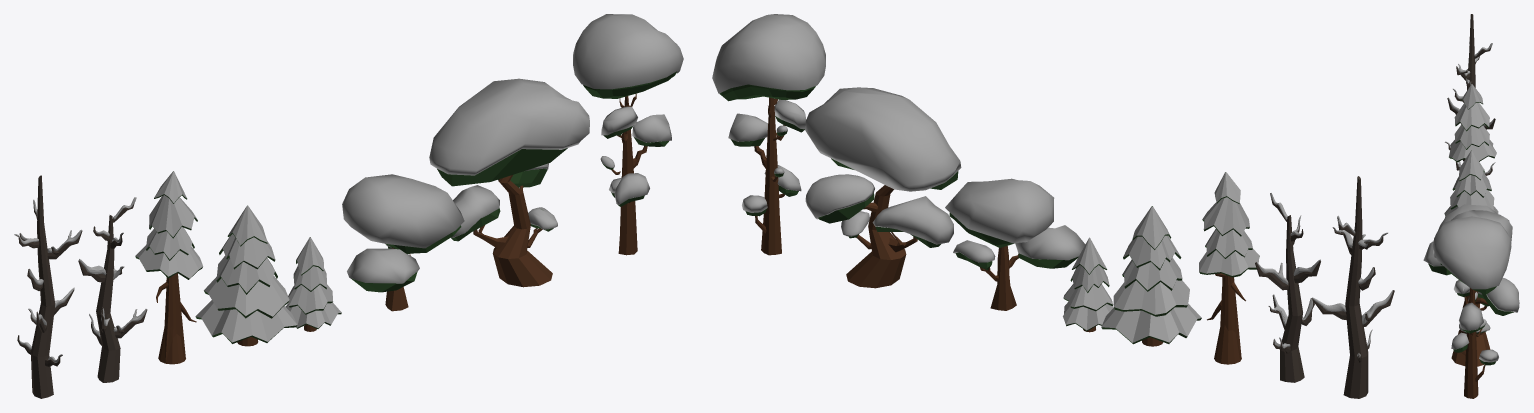
File: Final Trees.glb
3 views of the same model, side by side, from view 1: azimuth 30°, elevation 25°; view 2: azimuth 150°, elevation 25°; view 3: azimuth 270°, elevation 25° (orthographic). The views are drawn at different scales.
Visible parts, largest first — view 1: Laub 3, Laub 1, Laub 2, Tanne 4, Tanne 6, Dead Tree 1, Dead Tree 2, Tanne 5; view 2: Laub 3, Laub 1, Laub 2, Tanne 4, Tanne 6, Dead Tree 1, Dead Tree 2, Tanne 5; view 3: Laub 1, Tanne 6, Laub 3, Tanne 4, Dead Tree 1, Laub 2, Dead Tree 2.
Part boxes in pixels (bbox=[...]): Laub 3: bbox=[429, 78, 589, 287]; Laub 1: bbox=[573, 14, 683, 255]; Laub 2: bbox=[342, 174, 464, 311]; Tanne 4: bbox=[195, 205, 297, 346]; Tanne 6: bbox=[135, 171, 203, 364]; Dead Tree 1: bbox=[14, 175, 82, 398]; Dead Tree 2: bbox=[78, 197, 147, 382]; Tanne 5: bbox=[285, 237, 341, 331]; Laub 3: bbox=[805, 87, 961, 288]; Laub 1: bbox=[712, 14, 825, 255]; Laub 2: bbox=[945, 178, 1085, 310]; Tanne 4: bbox=[1101, 206, 1201, 346]; Tanne 6: bbox=[1199, 172, 1259, 364]; Dead Tree 1: bbox=[1312, 176, 1394, 398]; Dead Tree 2: bbox=[1255, 193, 1320, 382]; Tanne 5: bbox=[1063, 237, 1113, 332]; Laub 1: bbox=[1432, 216, 1511, 398]; Tanne 6: bbox=[1449, 84, 1496, 162]; Laub 3: bbox=[1451, 210, 1519, 366]; Tanne 4: bbox=[1444, 150, 1498, 218]; Dead Tree 1: bbox=[1445, 14, 1492, 150]; Laub 2: bbox=[1423, 204, 1496, 307]; Dead Tree 2: bbox=[1453, 78, 1495, 175].
Size of the model in its own units: 104 by 33.98 by 17.04.
